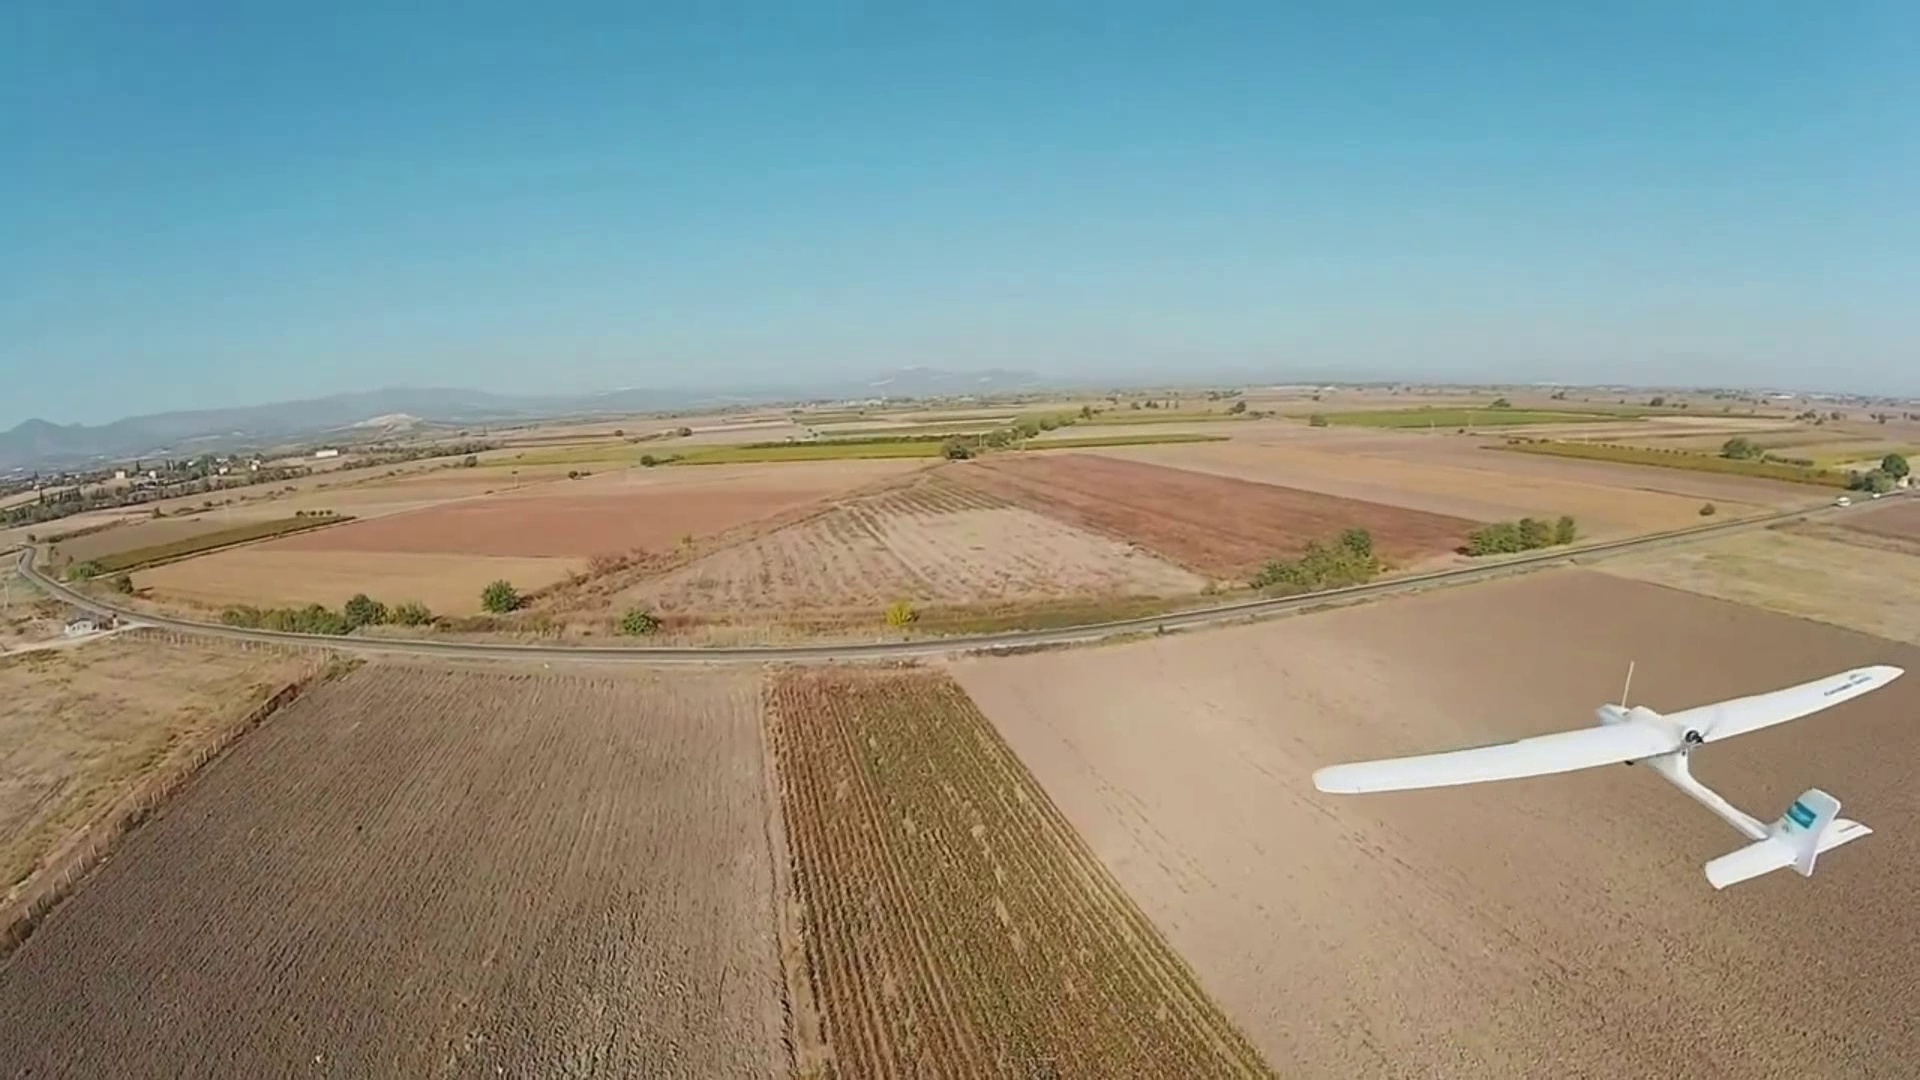airplane: (1309, 659, 1901, 891)
